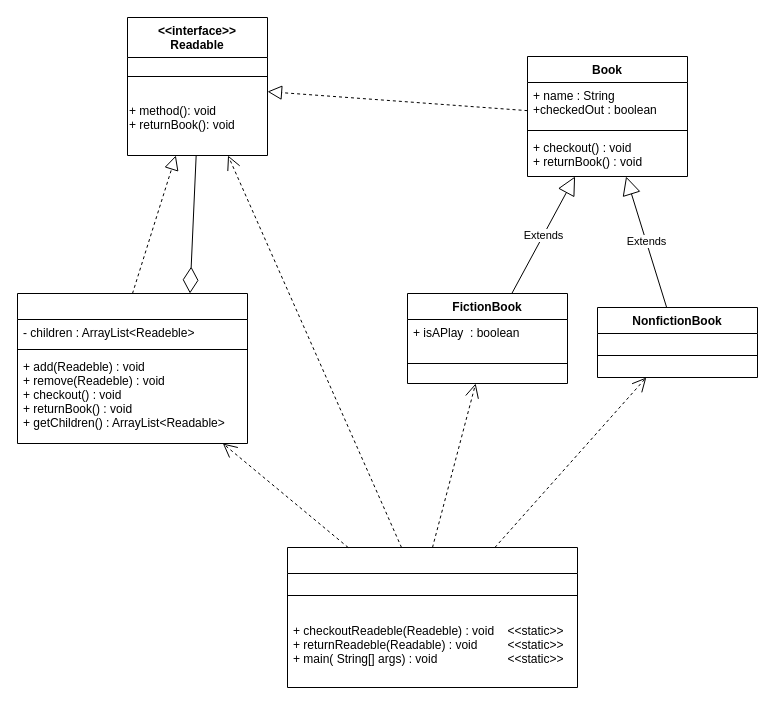
Image size: 775x708. Some labels were removed from this diagram. The shapes that lost their labels are listed below. From the top down, each one's box as (x1, y1, x2, y2) in pixels, then its label:
(16, 292, 248, 444): BookCollection
(286, 546, 578, 688): LibraryClient
